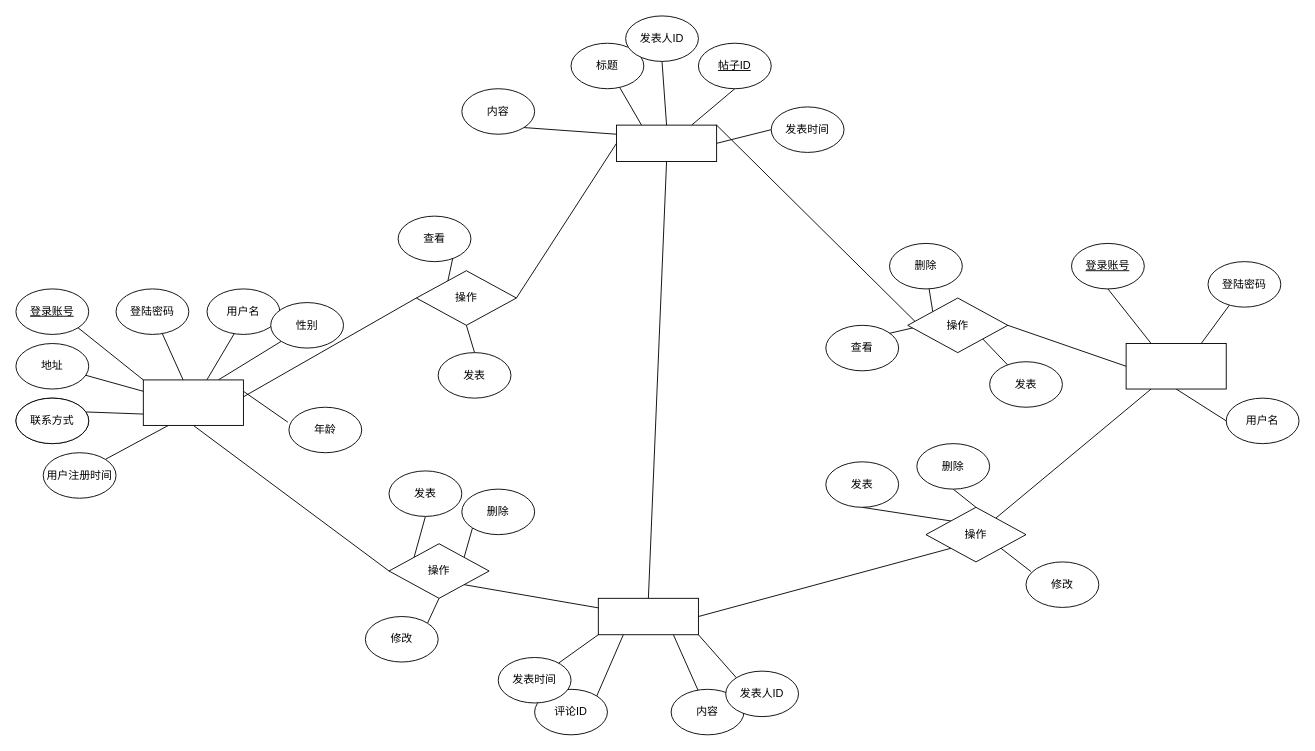
Image size: 1315x751. Some labels were removed from this diagram. Each missing label, with the centre of its shape:
"帖子" belongs at point 666,143.
"用户" belongs at point 192,402.
"管理员" belongs at point 1175,366.
"评论" belongs at point 647,616.
